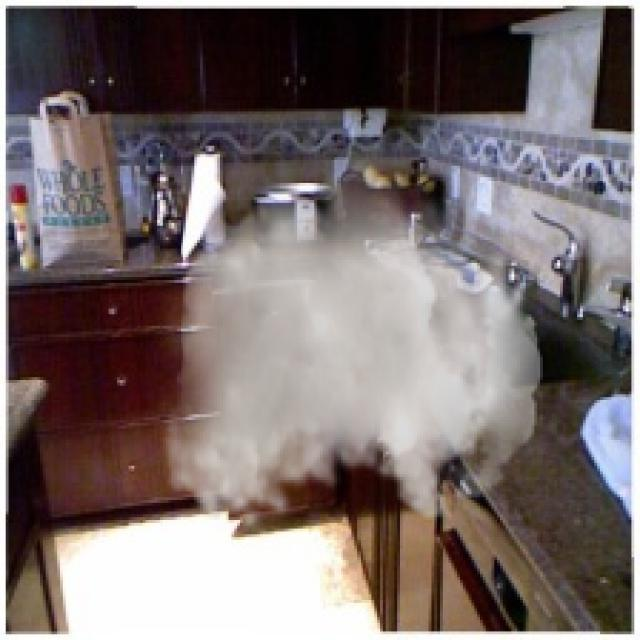Smoke: (163, 143, 543, 532)
